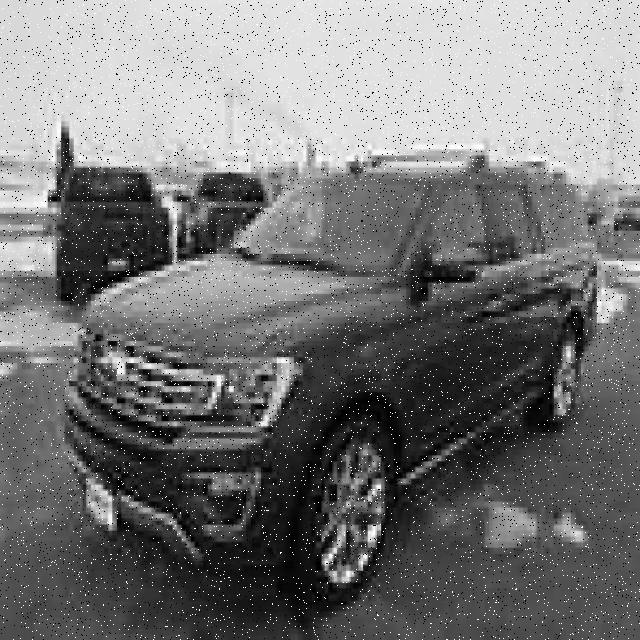SUV: (65, 148, 602, 614)
